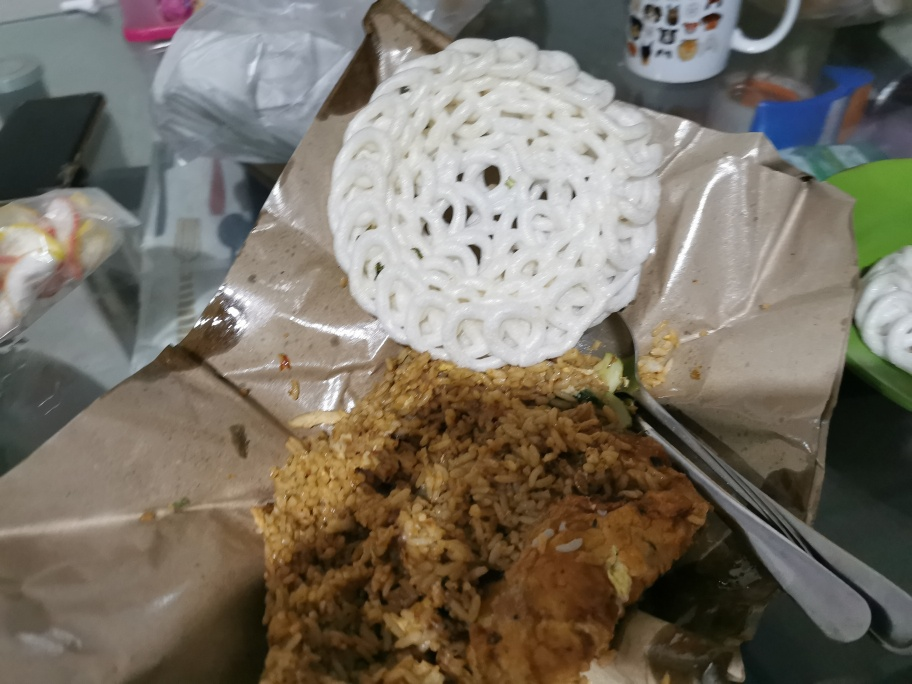kerupuk: (337, 37, 667, 356)
nasi goreng: (267, 358, 713, 683)
